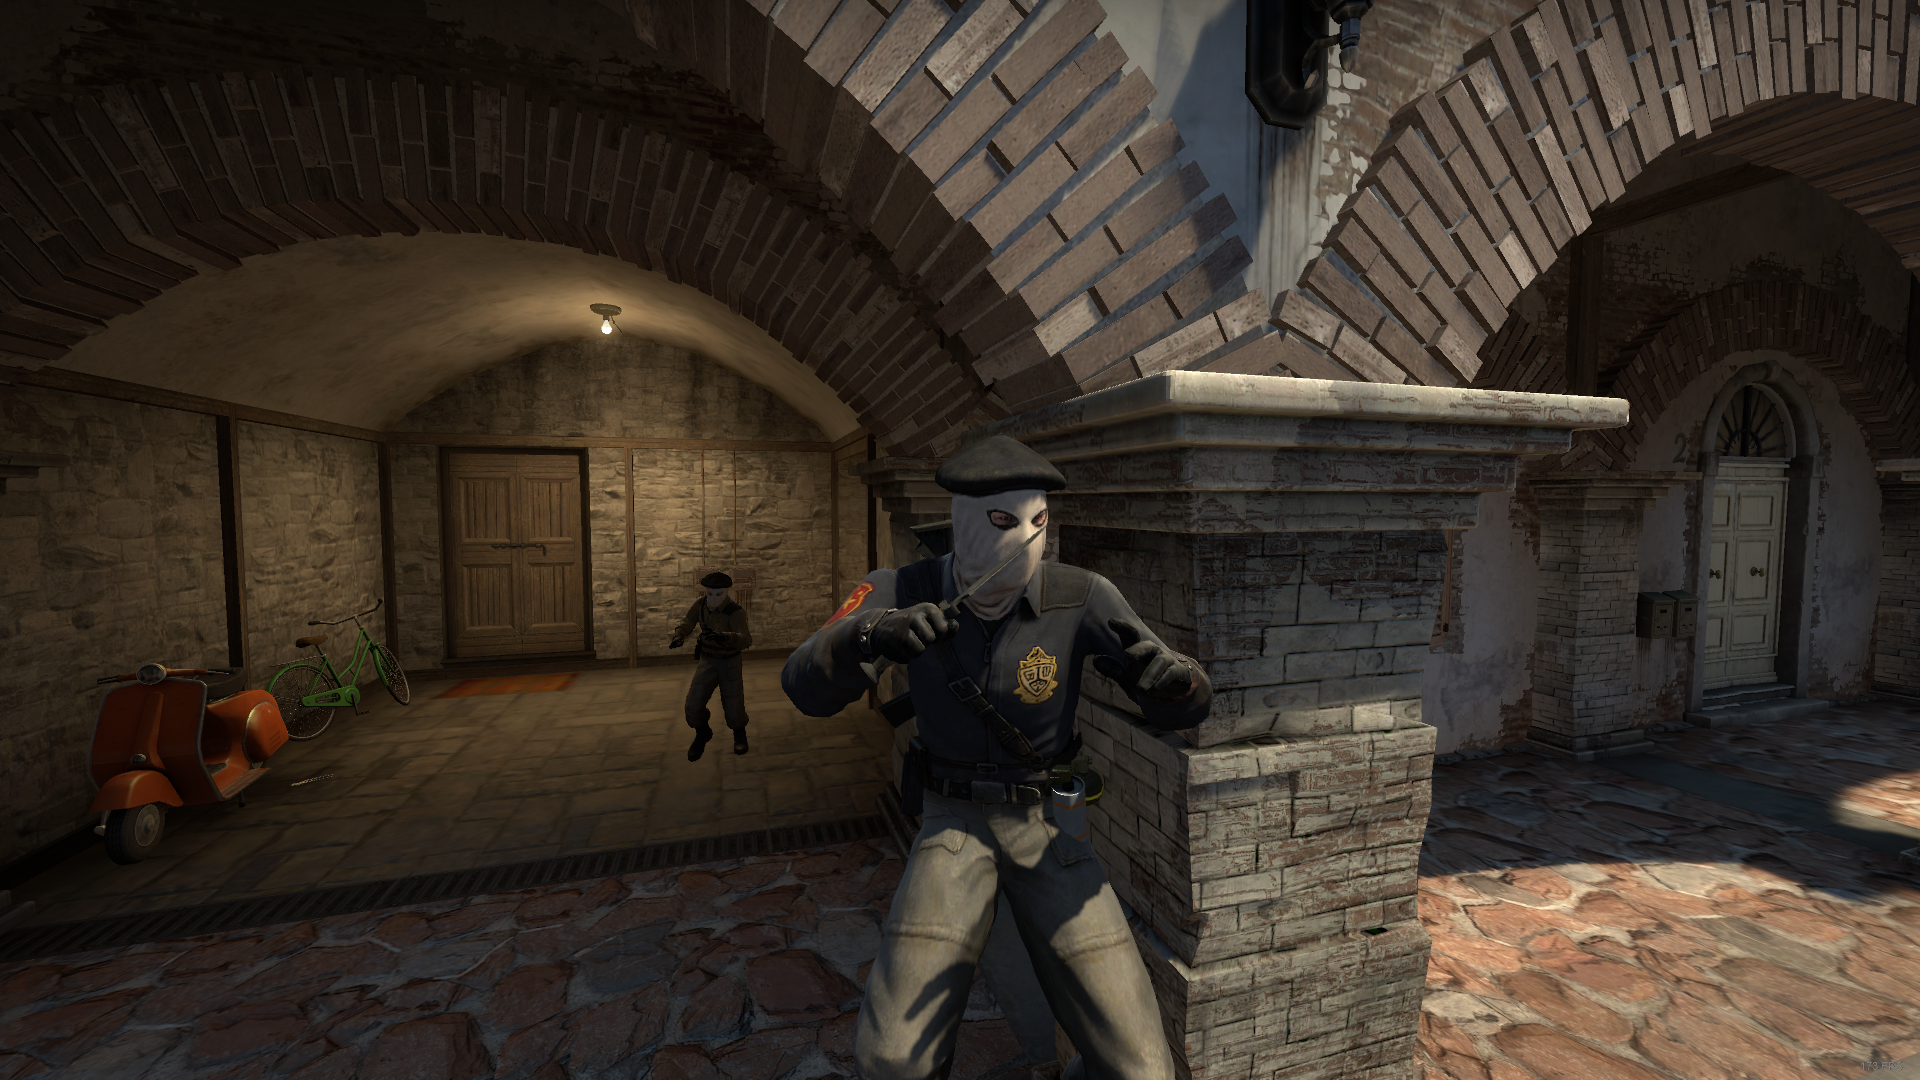t: (782, 433, 1215, 1080), (670, 571, 752, 765)
